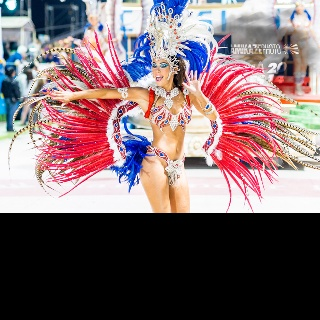without_mask: (151, 58, 172, 87)
